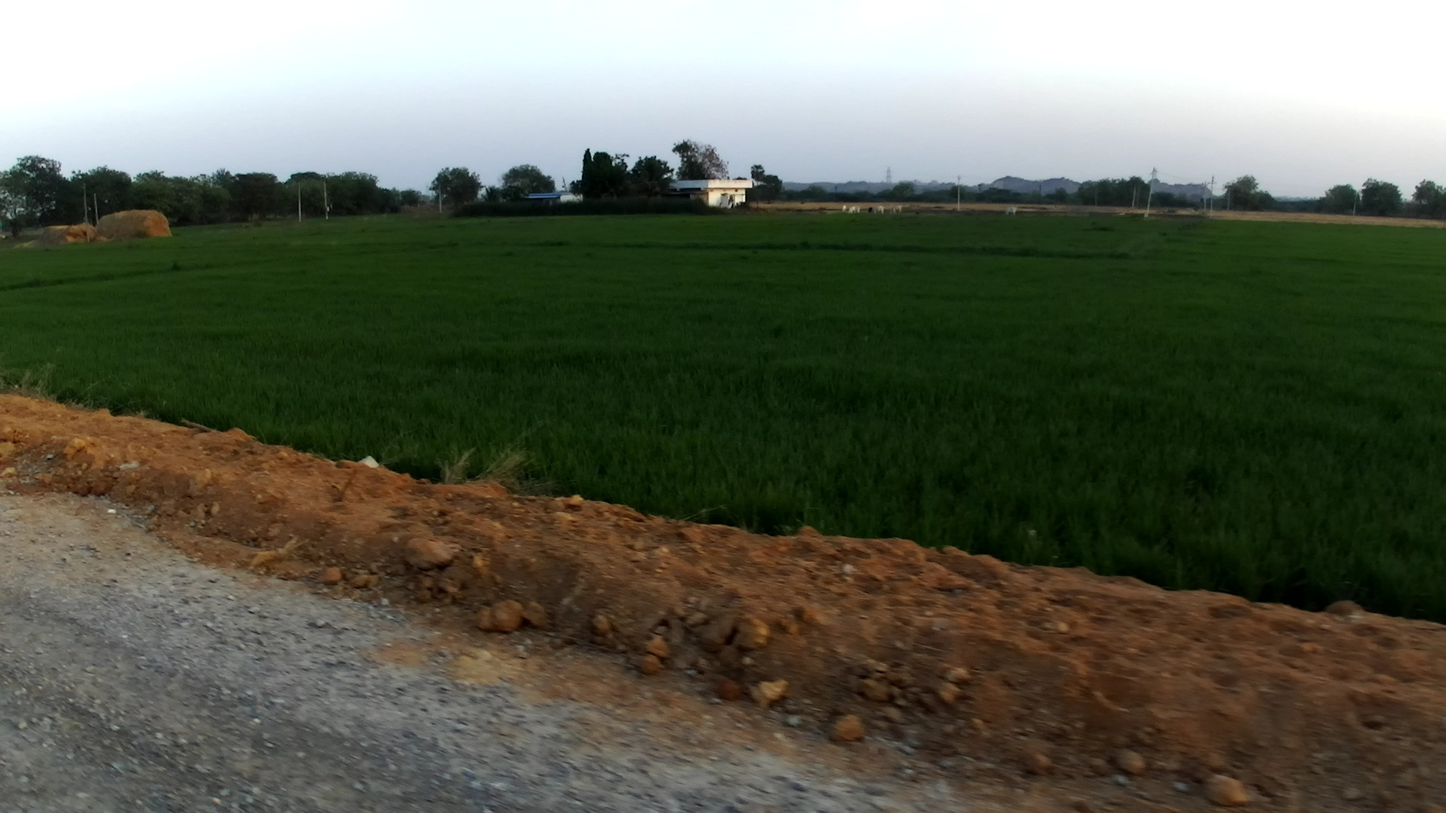animal: (1005, 205, 1018, 217), (847, 205, 862, 215), (891, 203, 903, 214), (840, 204, 850, 215), (874, 206, 883, 214), (867, 207, 876, 215)
